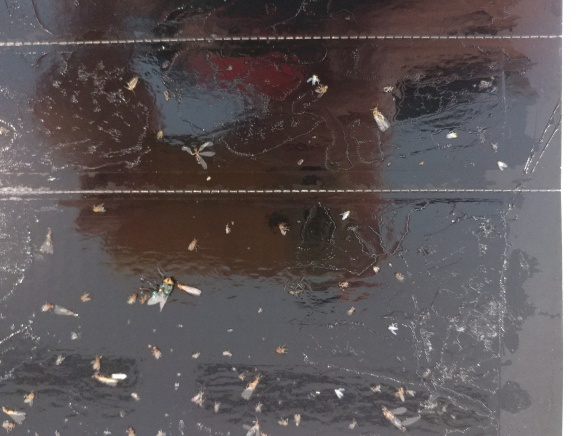flying termite: (176, 139, 219, 176), (370, 101, 395, 135), (240, 369, 265, 403), (92, 369, 130, 390), (39, 229, 59, 258)
